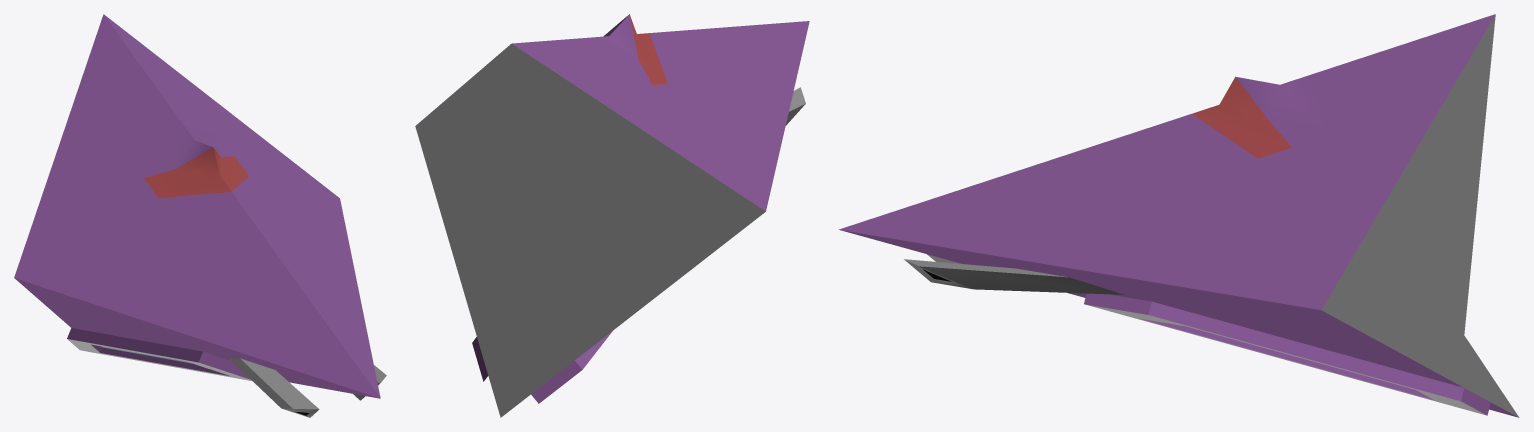
The model's file is AlienCraft.fbx.
3 views of the same model, side by side, from view 1: azimuth 30°, elevation 25°; view 2: azimuth 150°, elevation 25°; view 3: azimuth 270°, elevation 25° (orthographic). The views are drawn at different scales.
Visible parts, largest first — view 1: pPyramid1; view 2: pPyramid1; view 3: pPyramid1.
Boxes of the visible parts, x1,y1,x2,y2 form: pPyramid1: (14, 14, 386, 417); pPyramid1: (415, 14, 809, 417); pPyramid1: (839, 14, 1519, 417).
Size of the model in its own units: 12.53 by 12.51 by 19.12.
